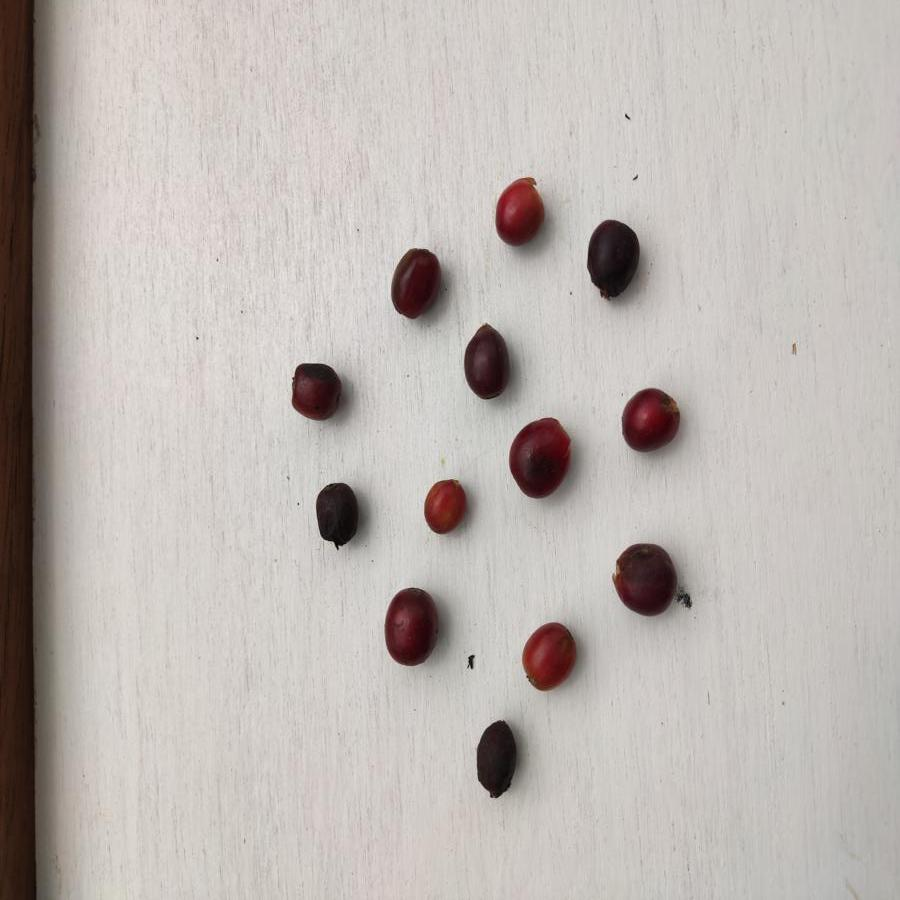Maduro: (520, 620, 579, 692), (492, 177, 548, 246), (424, 477, 466, 534)
Sobremaduro: (608, 539, 680, 615), (510, 417, 574, 497), (382, 585, 444, 667), (615, 386, 680, 457), (585, 217, 638, 299), (385, 247, 444, 315), (464, 321, 511, 404), (473, 719, 520, 792), (285, 362, 343, 420), (311, 479, 361, 546)
